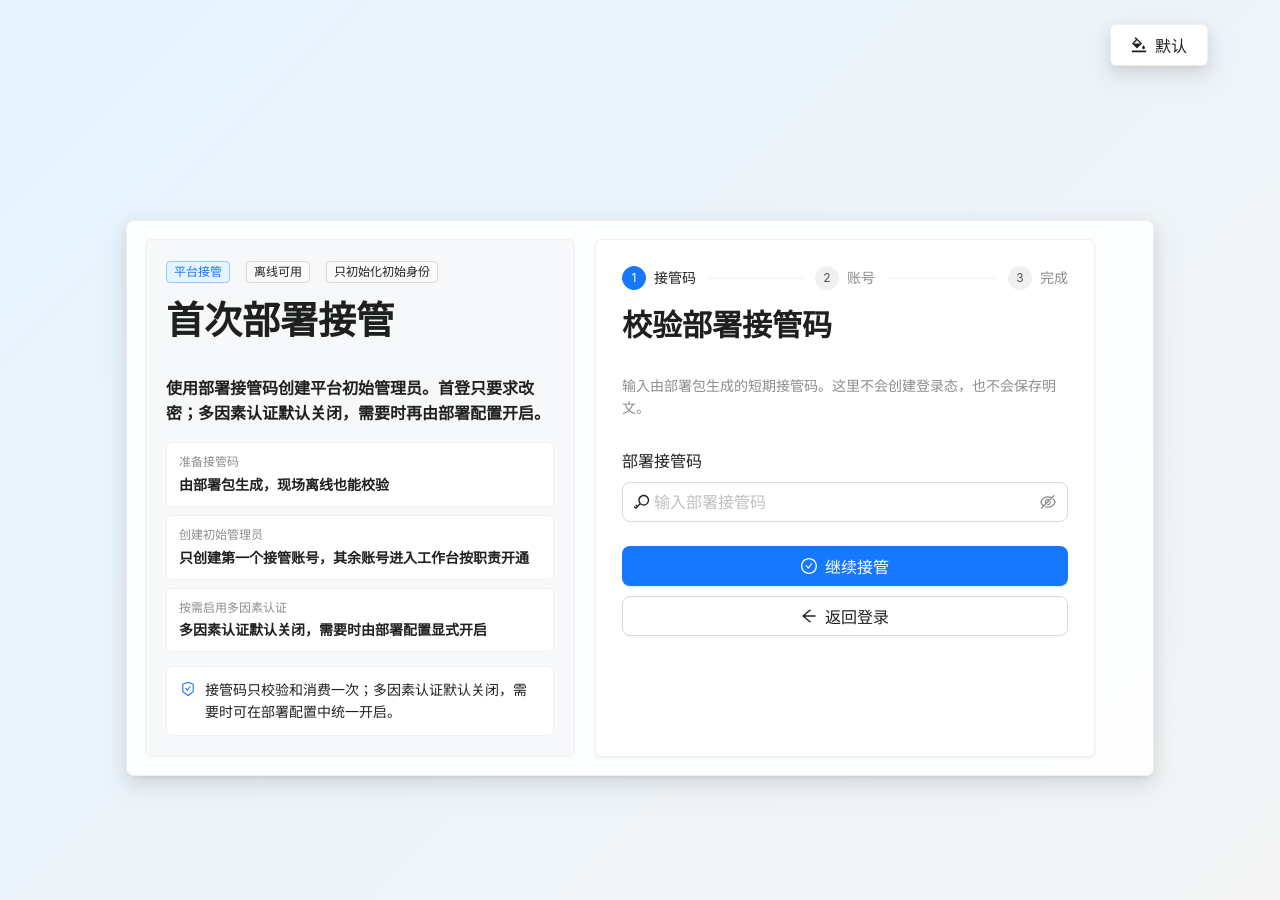
Test: Bootstrap › 部署接管码错误按字段回显
Type "expired-token" into the password field labelled "部署接管码". click: (845, 502)
box: [654, 490, 1036, 514]
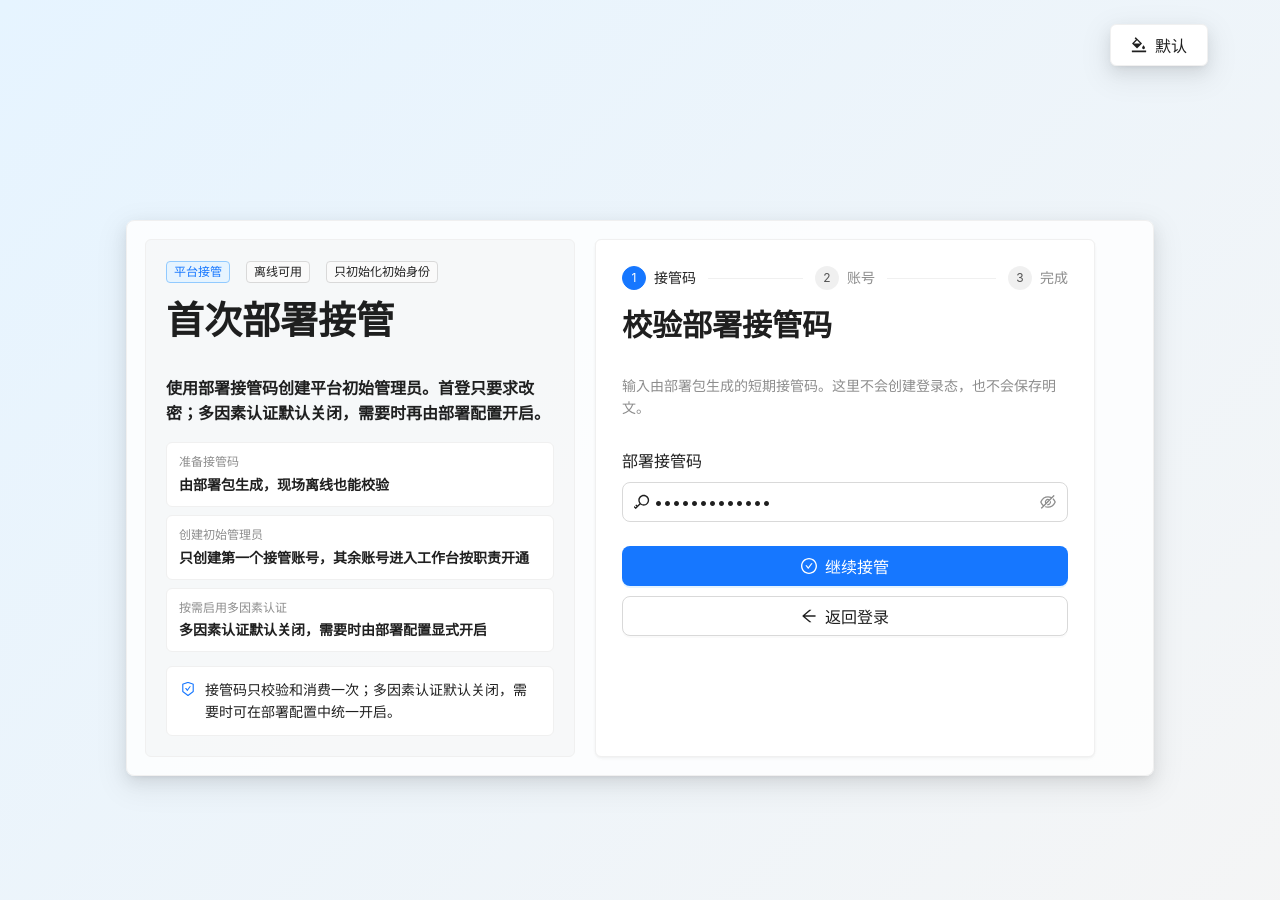
Click the button "继续接管". click: (845, 566)
box: [622, 546, 1068, 586]
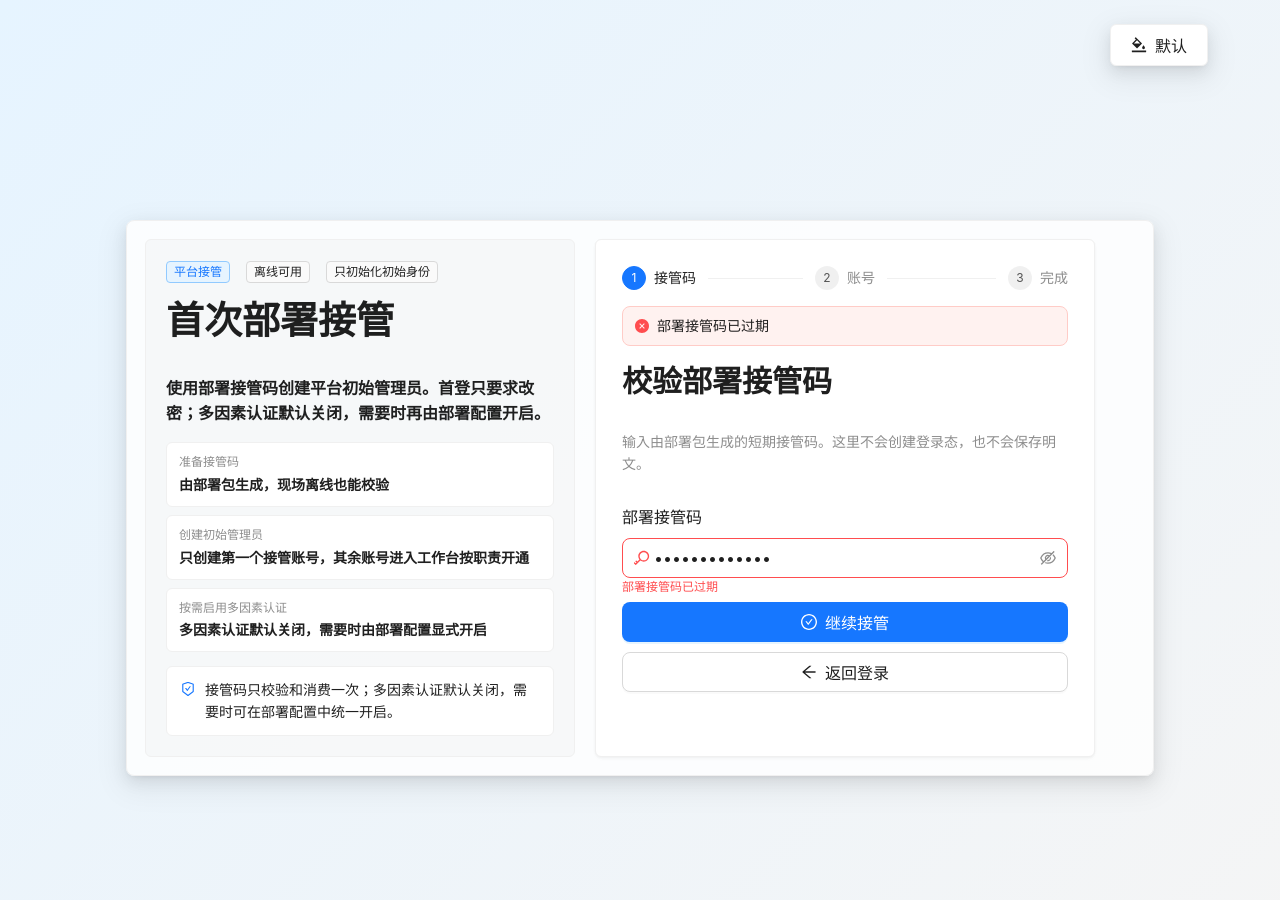
Expected: the 1st text "部署接管码已过期" is shown, [657, 317, 769, 334]
